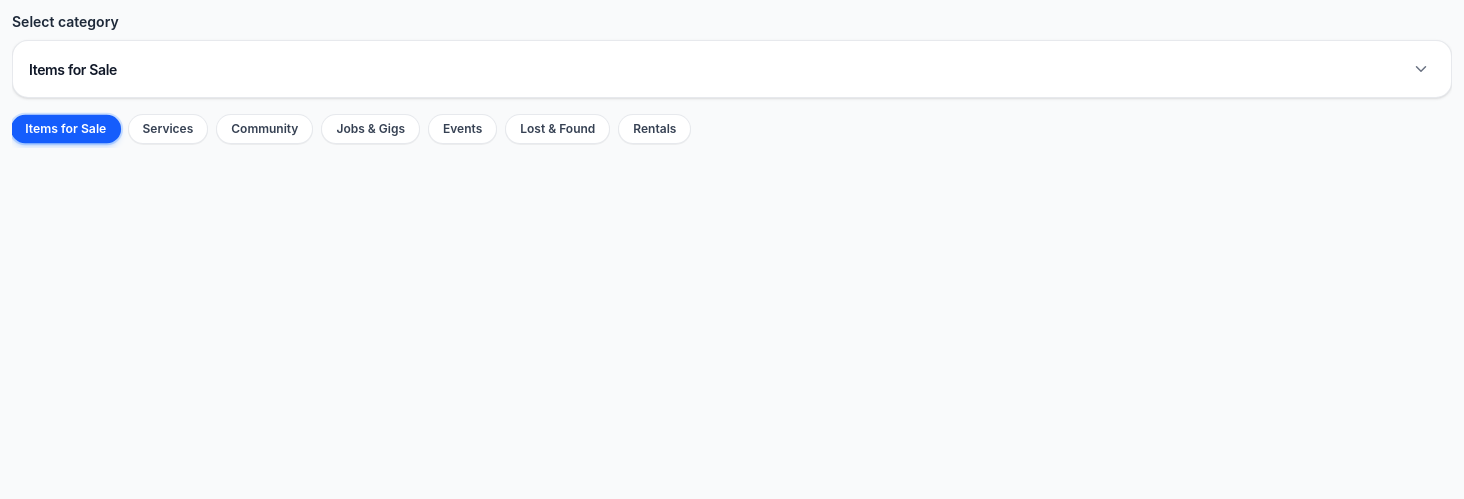
Test: CategorySelect › closes dropdown on Escape key
Click the 1st button "Items for Sale".
click(73, 70)  # box [12,40,1452,98]
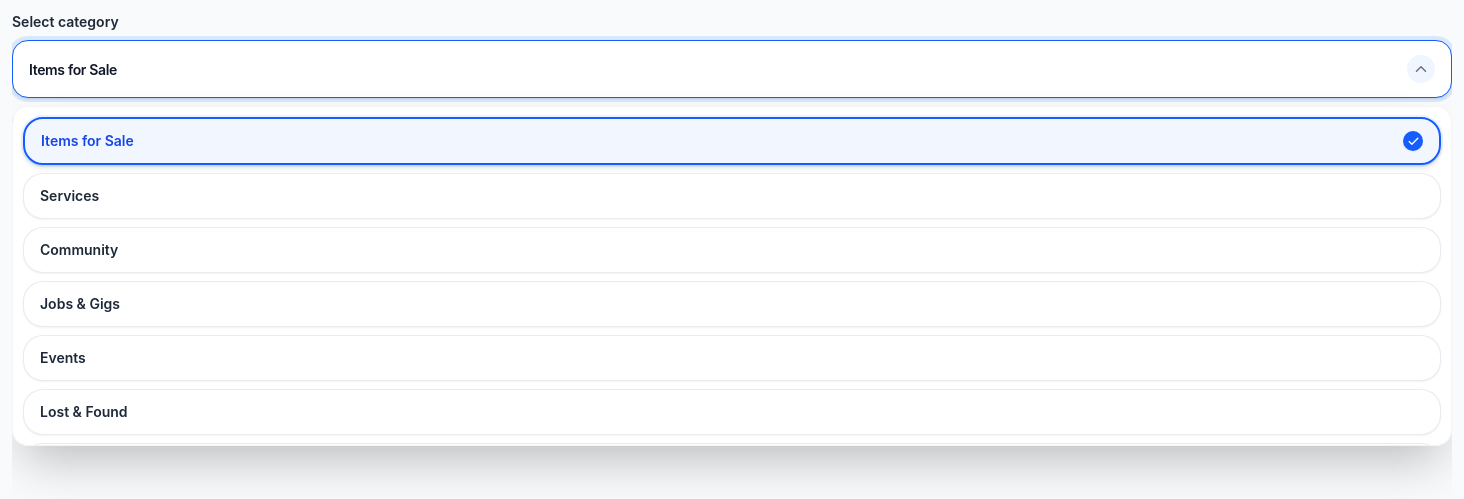
Expected: the list is shown
Press Escape
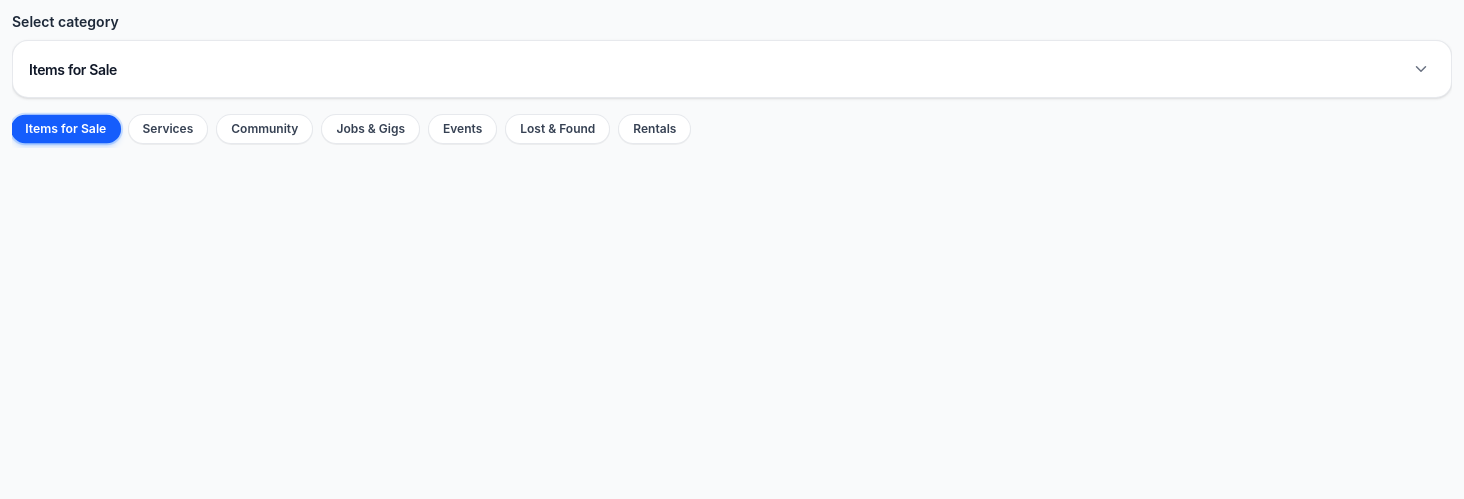
Expected: the list is gone
